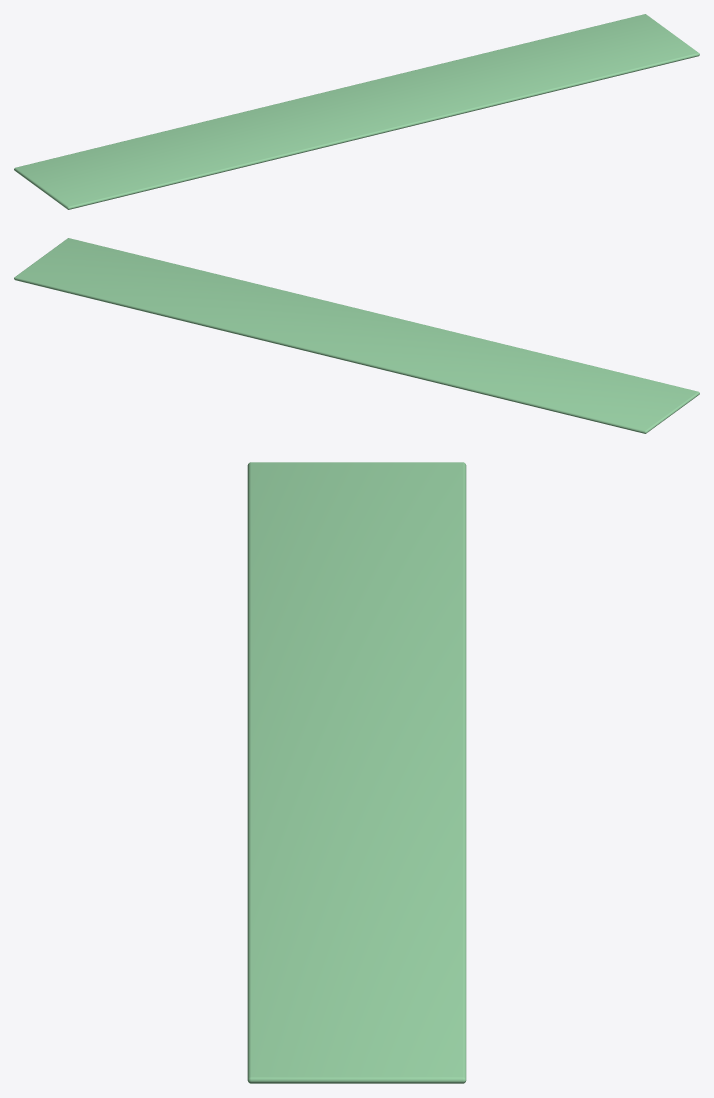
File: Ore Loading Wharf.glb
3 renders of one model, top to bottom at view 1: azimuth 30°, elevation 25°; view 2: azimuth 150°, elevation 25°; view 3: azimuth 270°, elevation 25°, orthographic. The views are drawn at different scales.
Visible parts, largest first — view 1: Ore Loading Wharf; view 2: Ore Loading Wharf; view 3: Ore Loading Wharf.
Boxes of the visible parts, <box> form: Ore Loading Wharf: <box>14,14,699,209</box>; Ore Loading Wharf: <box>14,238,699,433</box>; Ore Loading Wharf: <box>247,462,466,1083</box>.
Size of the model in its own units: 10.39 by 0.0505 by 1.56.
